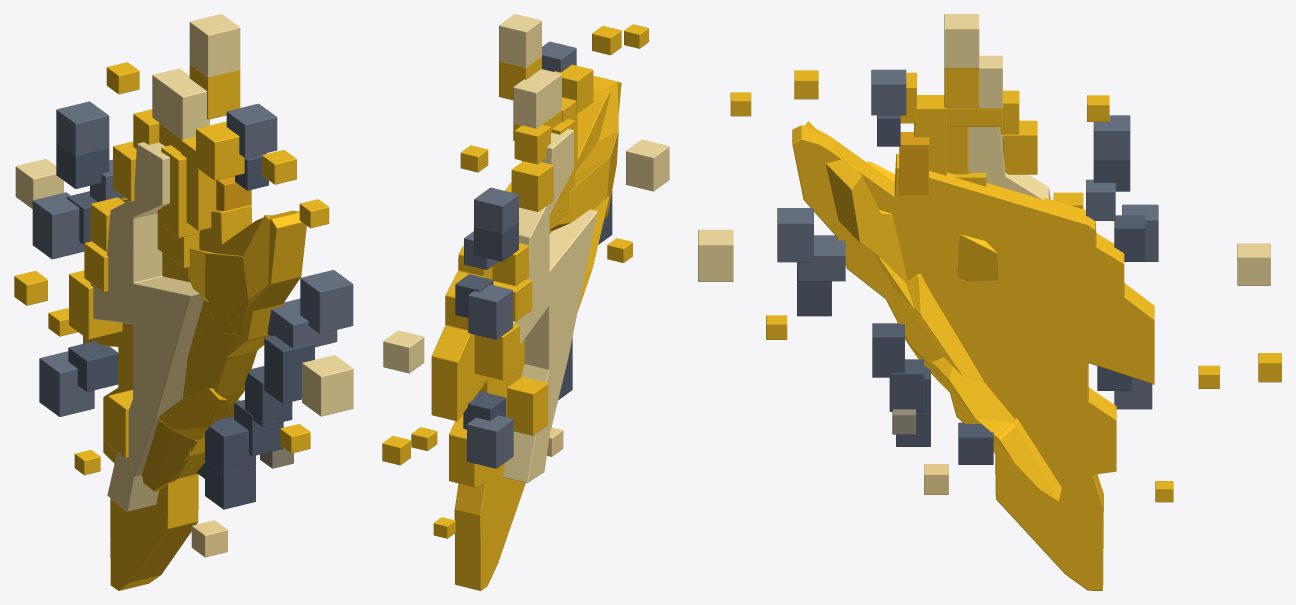
Rendered from SM_Blender_Storm.glb.
3 renders of one model, left to right at view 1: azimuth 30°, elevation 25°; view 2: azimuth 150°, elevation 25°; view 3: azimuth 270°, elevation 25°, orthographic. The views are drawn at different scales.
Visible parts, largest first — view 1: SM_Blender_Storm; view 2: SM_Blender_Storm; view 3: SM_Blender_Storm.
Boxes of the visible parts, bbox=[...] form: SM_Blender_Storm: bbox=[14, 14, 353, 590]; SM_Blender_Storm: bbox=[382, 14, 669, 590]; SM_Blender_Storm: bbox=[698, 14, 1281, 590].
Size of the model in its own units: 0.2873 by 1.4 by 1.3.
2 materials, 2 textured.
